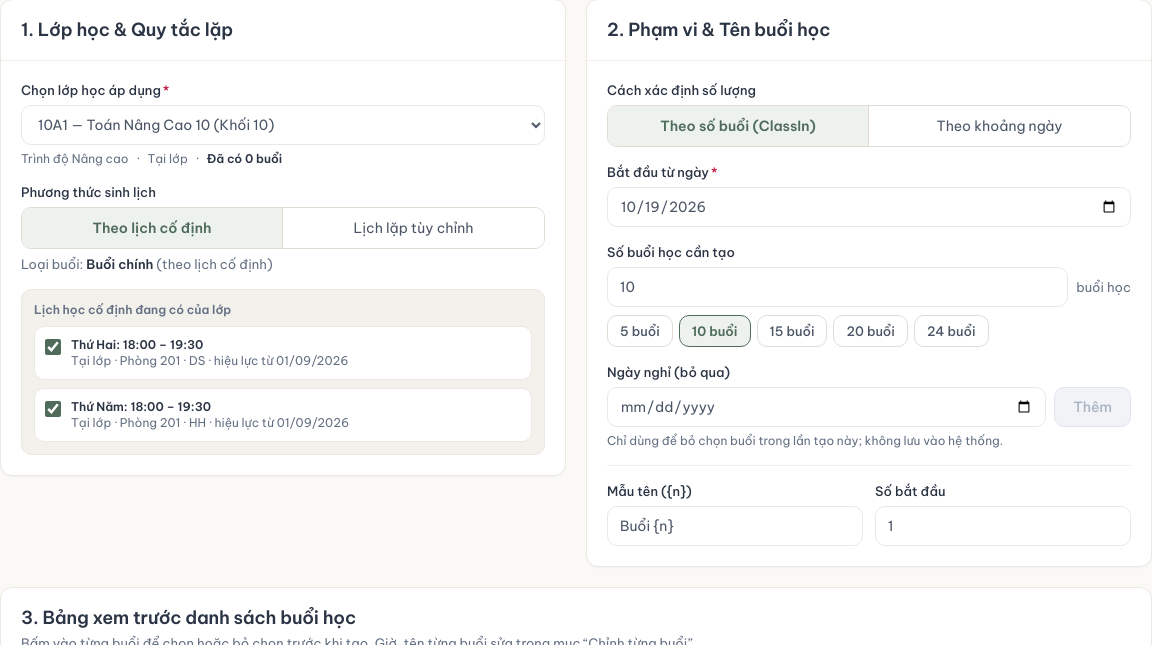
Scenario: BatchSessionCreateWorkspace — design 17b preview › selects and clears every choosable session at once and leaves a holiday's own tick alone
Type "2026-10-22" into the date field labelled "Ngày nghỉ (bỏ qua)".
click(827, 407); type("2026-10-22")  # box [607,387,1046,427]
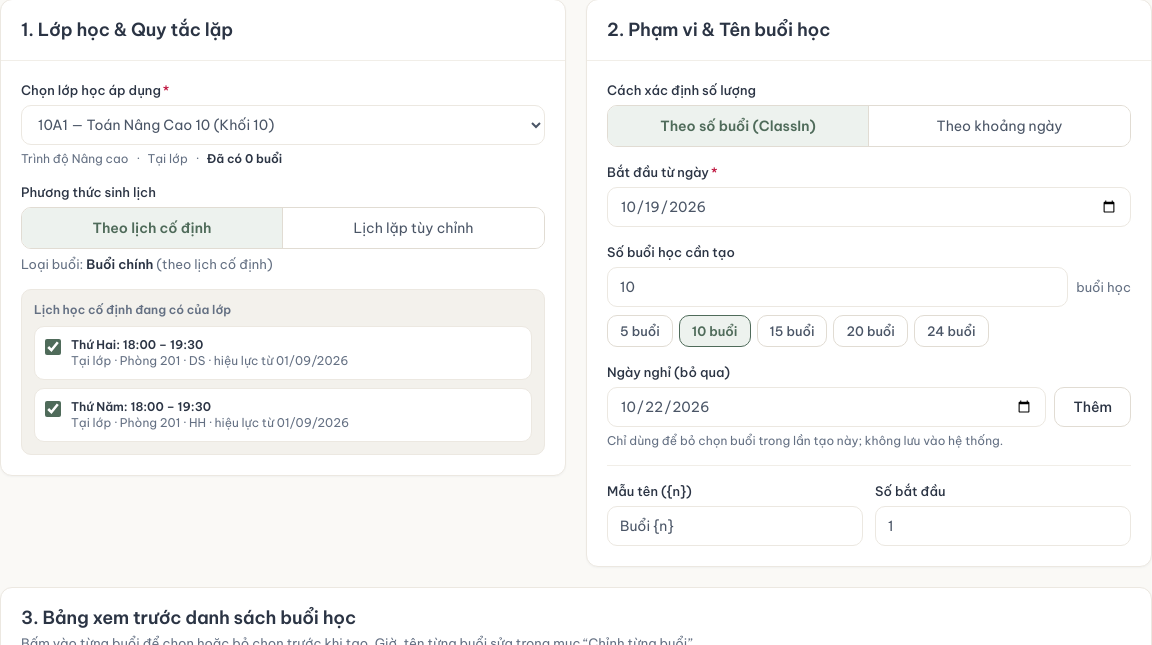
Click the button "Thêm".
click(1093, 407)  # box [1054,387,1131,427]
(page scrolled)
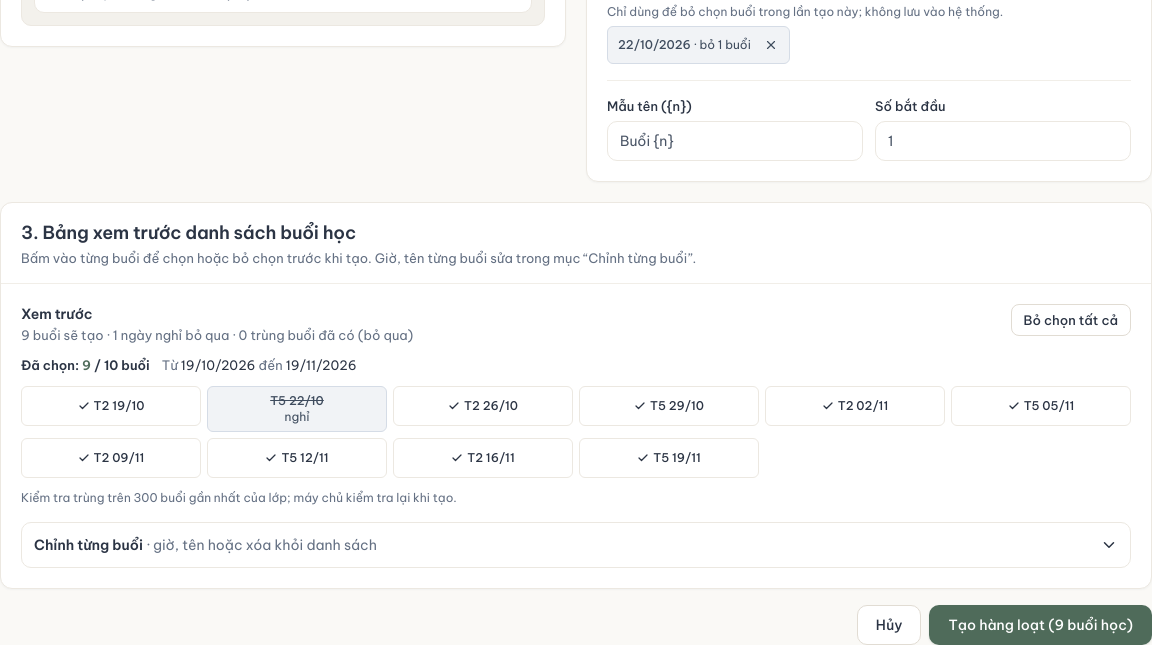
Result: the text "Đã chọn: 9 / 10 buổi" is shown at [21,356,150,374]
Click the button "Bỏ chọn tất cả".
click(1071, 320)  # box [1010,304,1131,336]
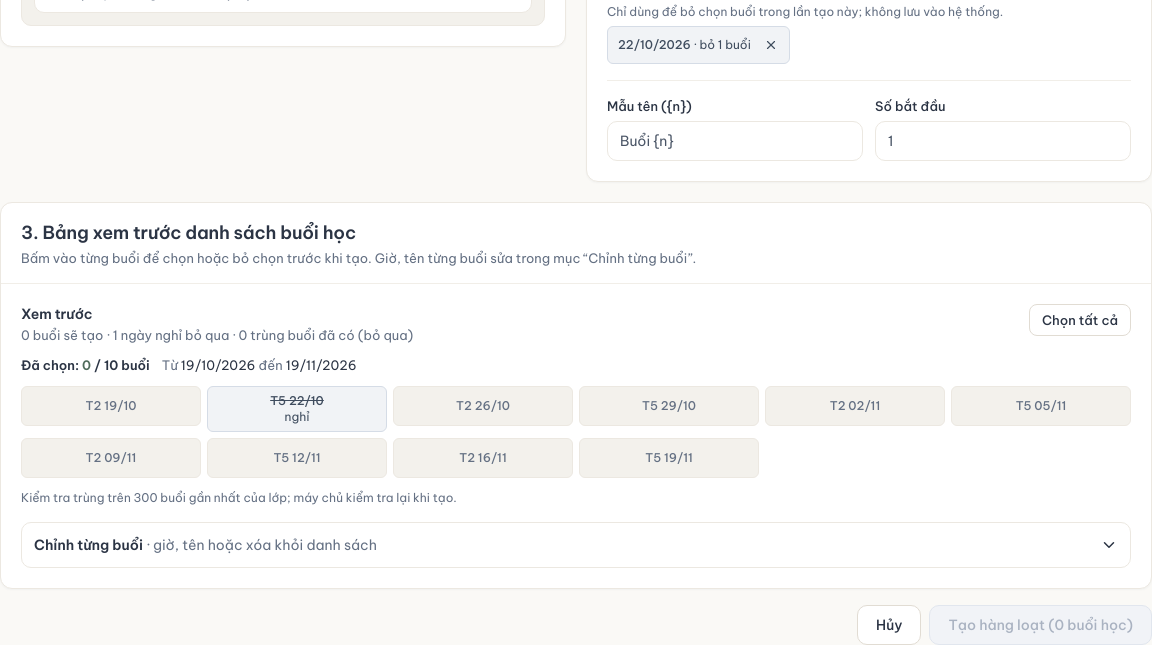
Result: the text "Đã chọn: 0 / 10 buổi" is shown at [21,356,150,374]
Result: the text "buổi sẽ tạo" reads "0 buổi sẽ tạo · 1 ngày nghỉ bỏ qua · 0 trùng buổi đã có (bỏ qua)" at [21,326,413,344]
Result: the button "Tạo hàng loạt (0 buổi học)" is disabled at [930,605,1151,644]
Click the button "Chọn tất cả".
click(1080, 320)  # box [1029,304,1131,336]
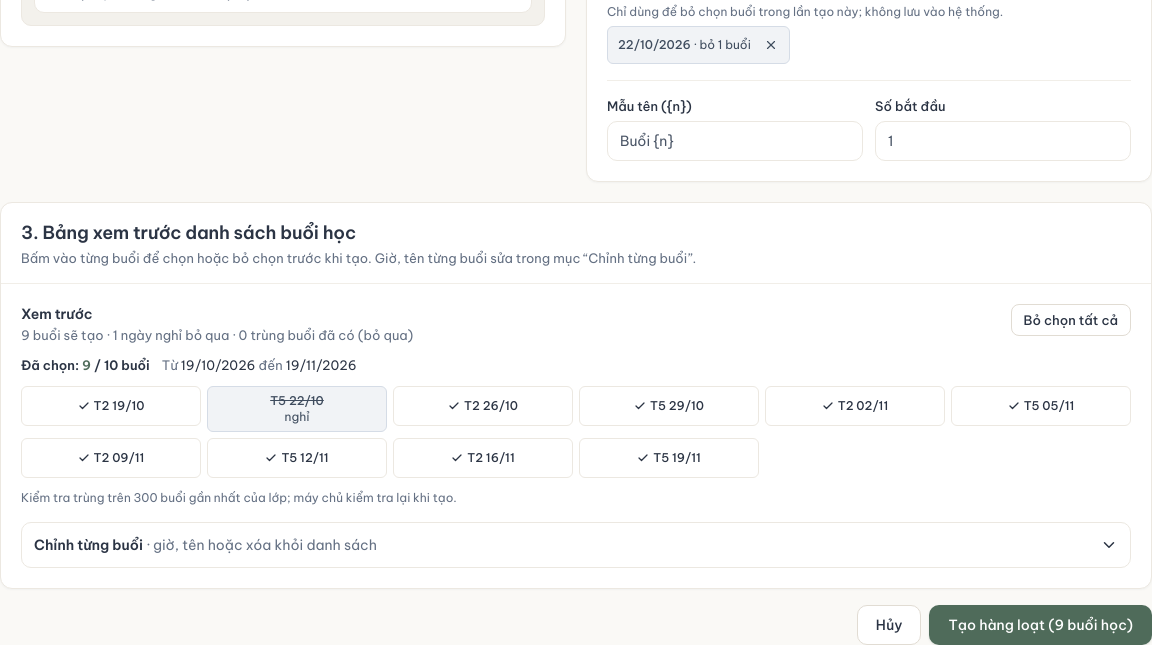
Result: the text "Đã chọn: 9 / 10 buổi" is shown at [21,356,150,374]
Result: the button "Tạo hàng loạt (9 buổi học)" is enabled at [929,605,1151,644]
Click the button "Bỏ chọn tất cả".
click(1071, 320)  # box [1010,304,1131,336]
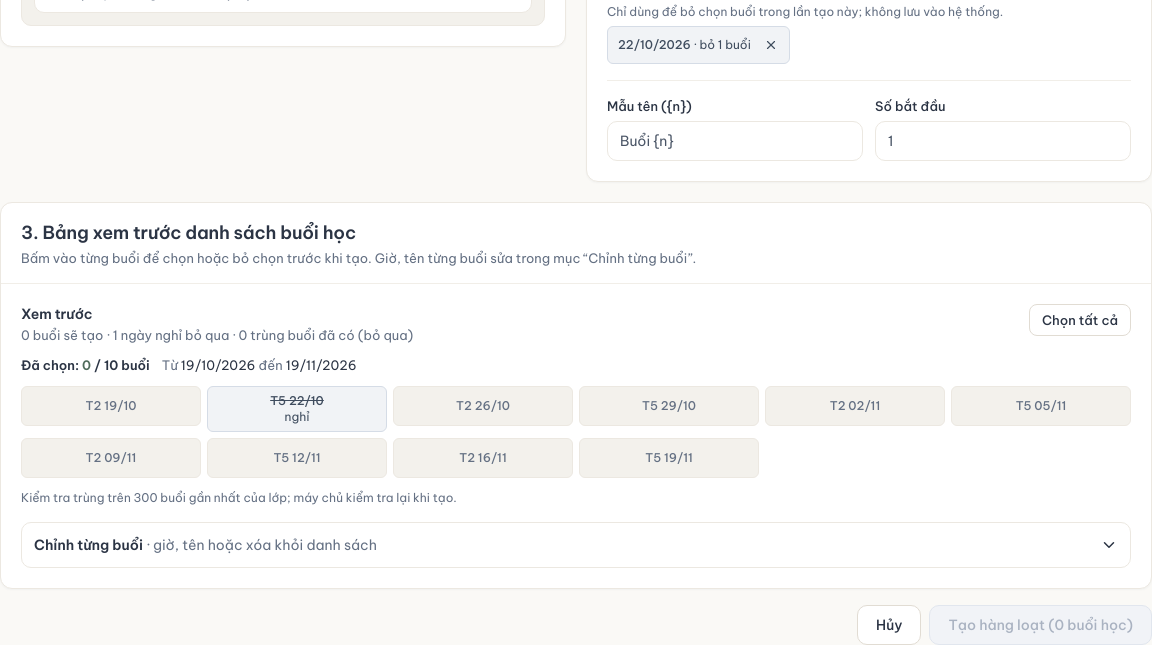
Result: the text "Đã chọn: 0 / 10 buổi" is shown at [21,356,150,374]
The holiday's draft was never touched by either toggle: it comes back ticked.
Click the button named "Bỏ ngày nghỉ 22/10/2026".
click(771, 45)  # box [755,29,787,61]
(page scrolled)
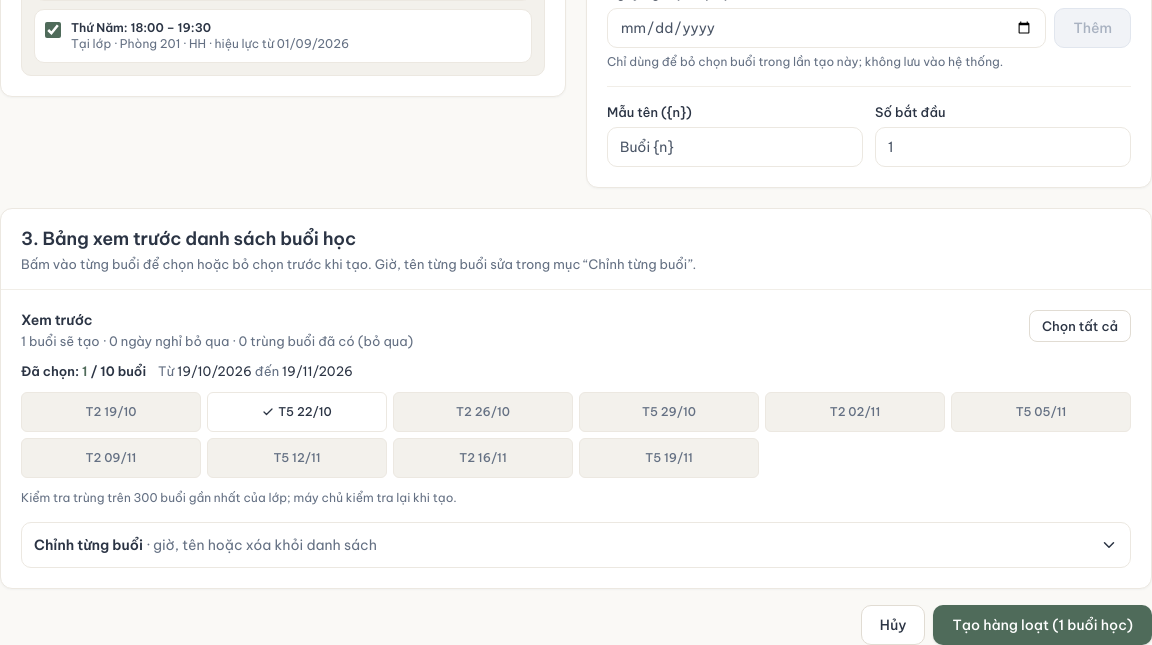
Expected: the button "Chọn tất cả" is shown, [1029,310,1131,342]
Result: the text "Đã chọn: 1 / 10 buổi" is shown at [21,362,146,380]
